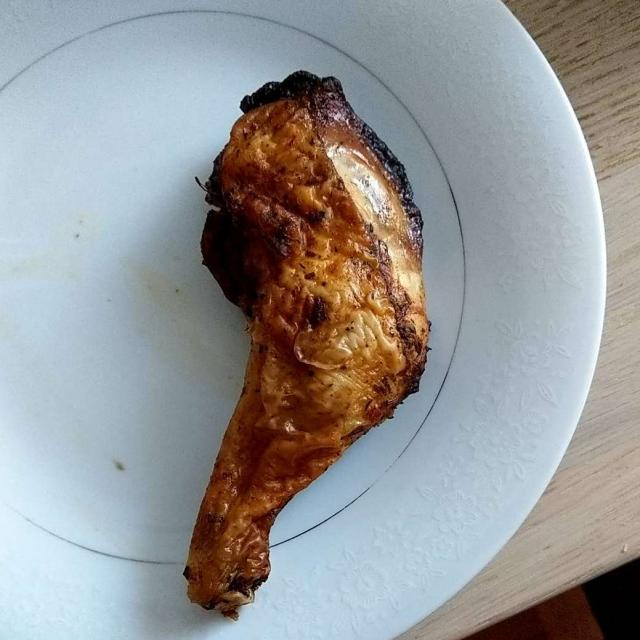chicken-leg: (188, 75, 429, 614)
